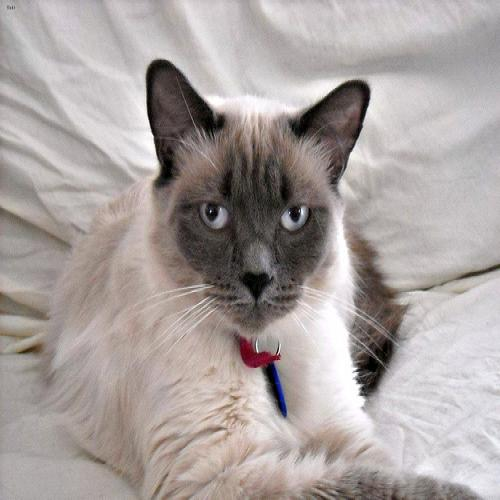siamese: (137, 47, 381, 343)
